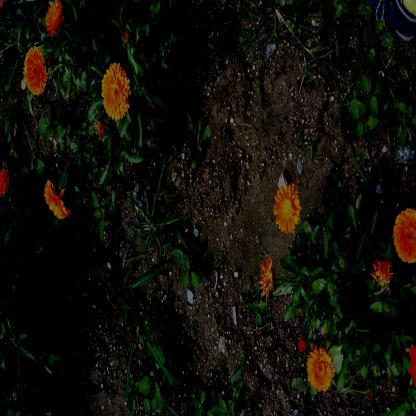marigold: (102, 64, 130, 119), (275, 185, 299, 234), (394, 209, 415, 262), (309, 348, 334, 392), (24, 47, 47, 93), (44, 180, 70, 219), (47, 2, 62, 34)
